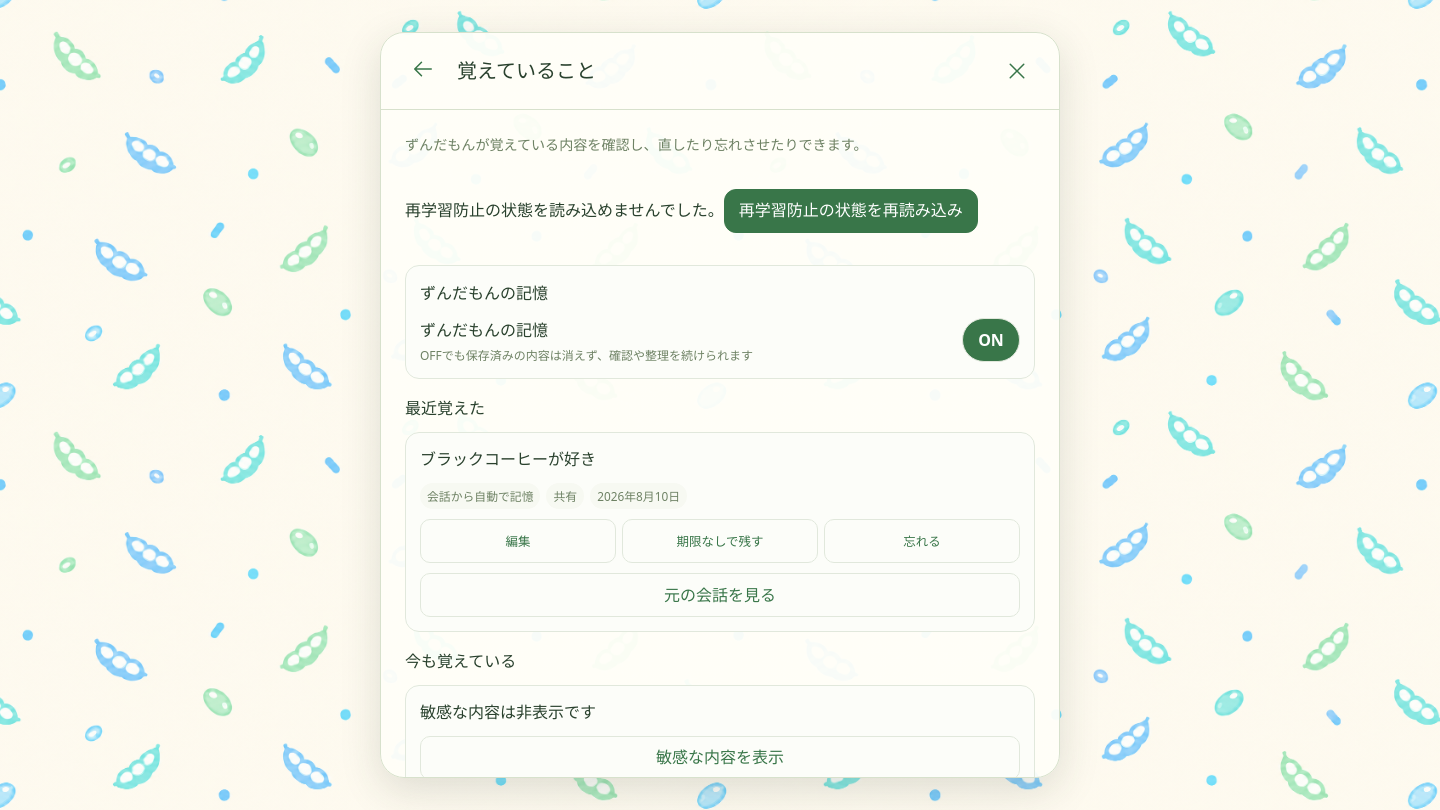
it: saved memories › renders memories and settings when tombstones fail and retries only tombstones
The width and height of the screenshot is (1440, 810).
Expected: the text "ブラックコーヒーが好き" is shown, [420,448,596,470]
Expected: the switch named "ずんだもんの記憶" is shown, [962,318,1020,362]
Click the button "再学習防止の状態を再読み込み" at (851, 210), box [724,188,978,232]
(page scrolled)
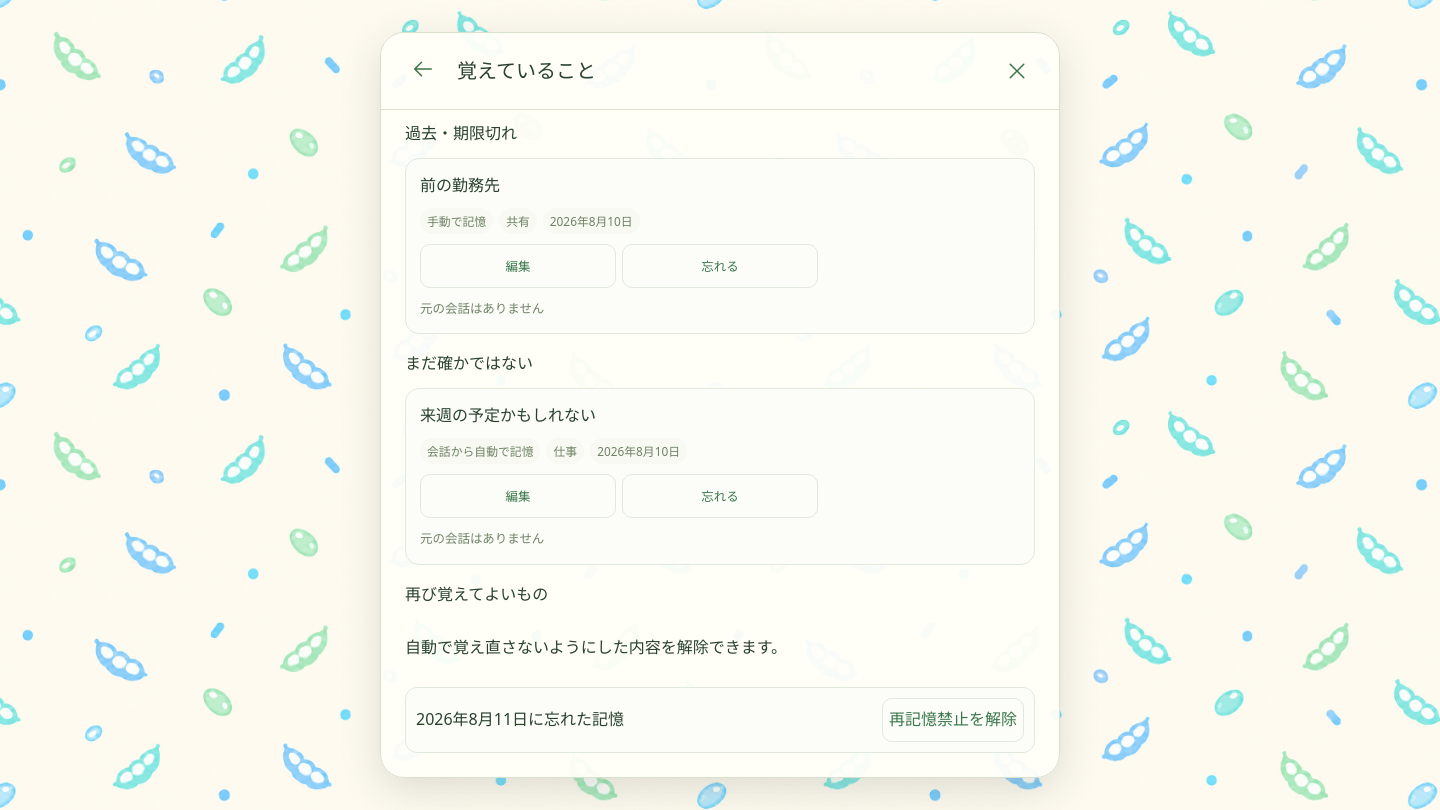
Result: the heading "再び覚えてよいもの" is shown at [405,583,548,605]
